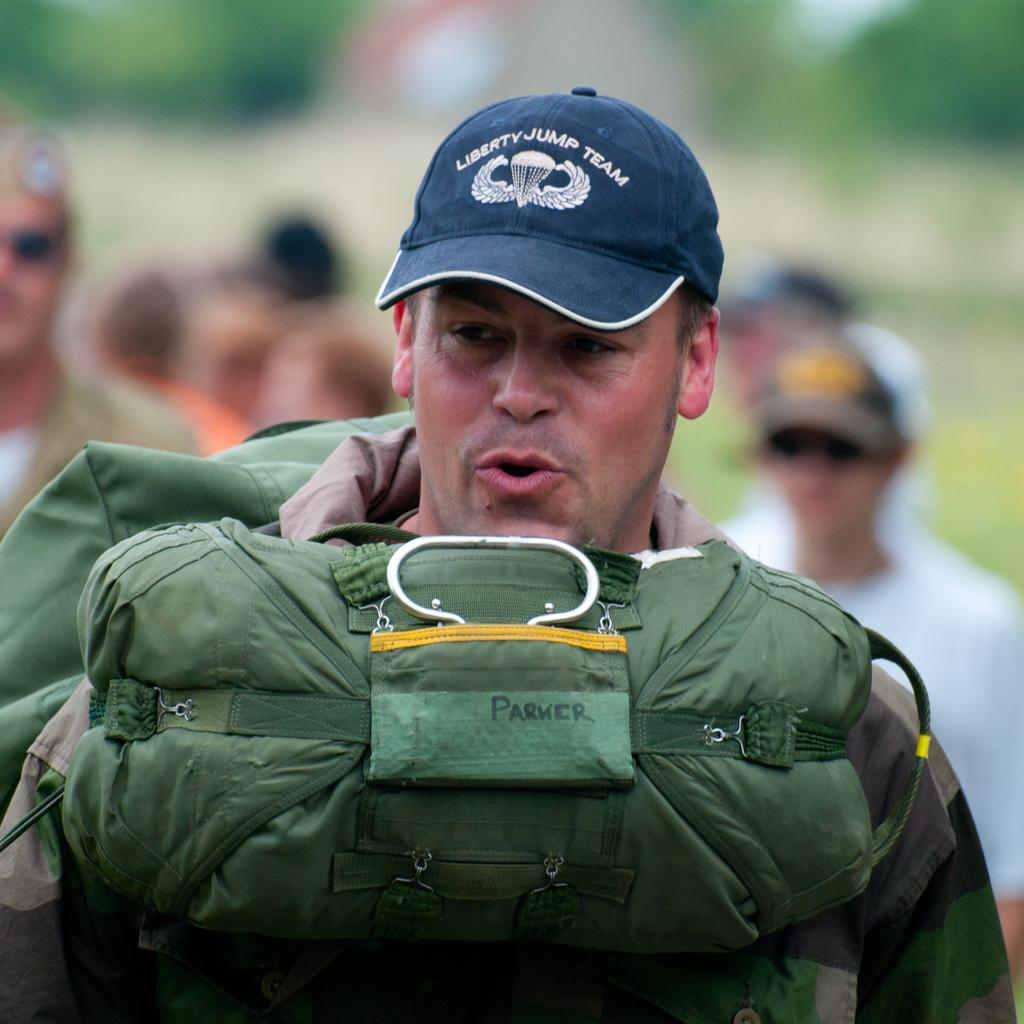Luggage-and-bags: (243, 564, 968, 984), (0, 410, 417, 821)
